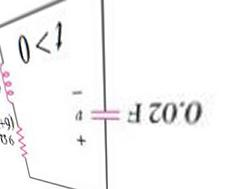resistor: (16, 120, 27, 162)
